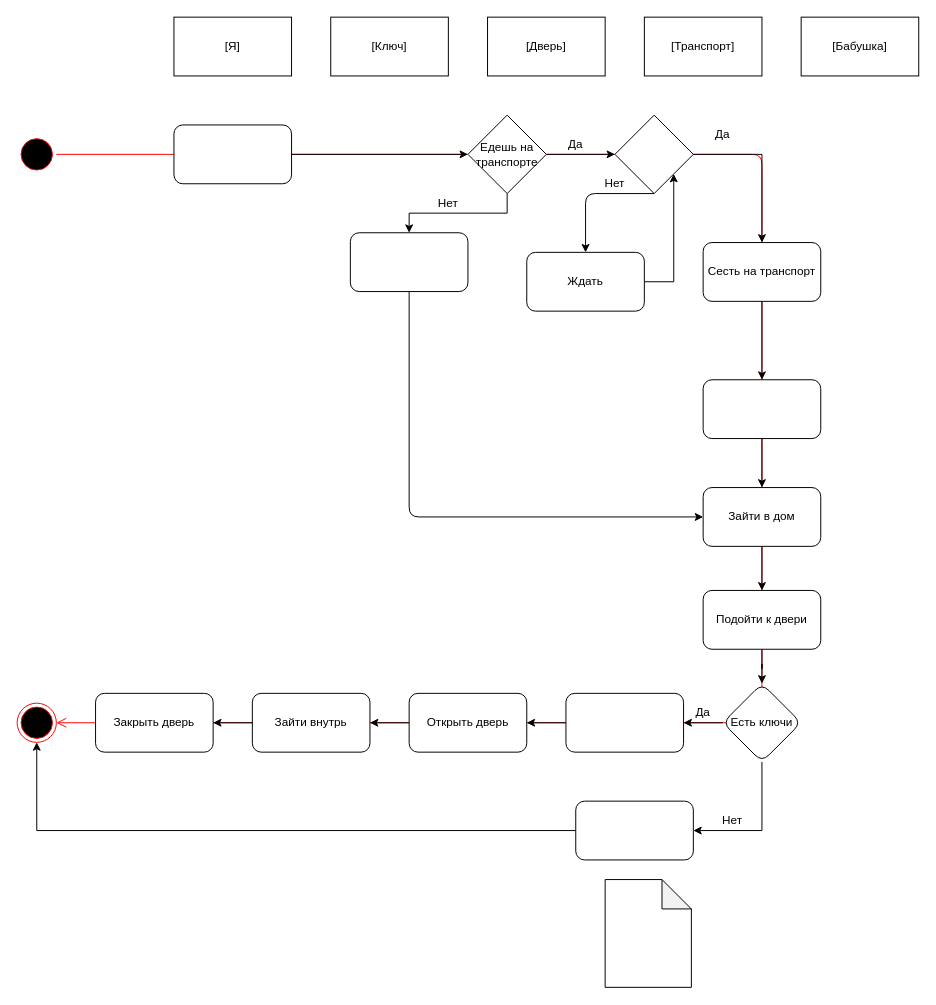
Some shapes in this 936 by 1005 pixel diagram are drawn without their labels. The box of each missing label's shape, as (x1, y1, x2, y2) in pixels:
Выйти из здания, в котором учился: (173, 124, 292, 184)
Доехать до дома: (702, 379, 821, 439)
Дойти до дома: (349, 232, 468, 292)
Достать ключ: (565, 692, 684, 752)
Или к любому другому родственнику: (604, 879, 691, 987)
Пойти к бабушке: (575, 800, 693, 860)
Транспорт на месте: (614, 114, 693, 194)
